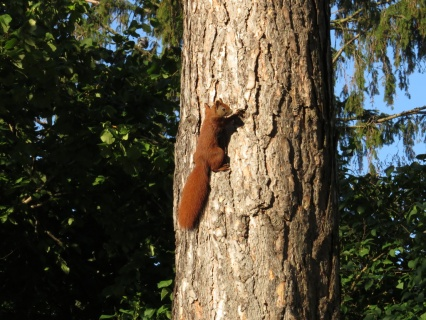Squirrel: (176, 94, 244, 232)
